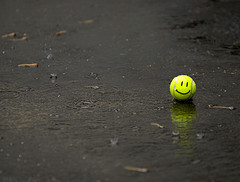tennis ball: (167, 74, 198, 102)
